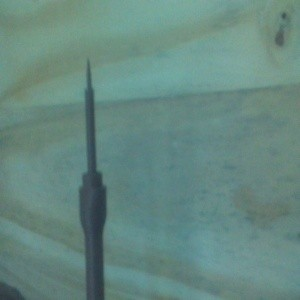solder: (77, 59, 107, 300)
